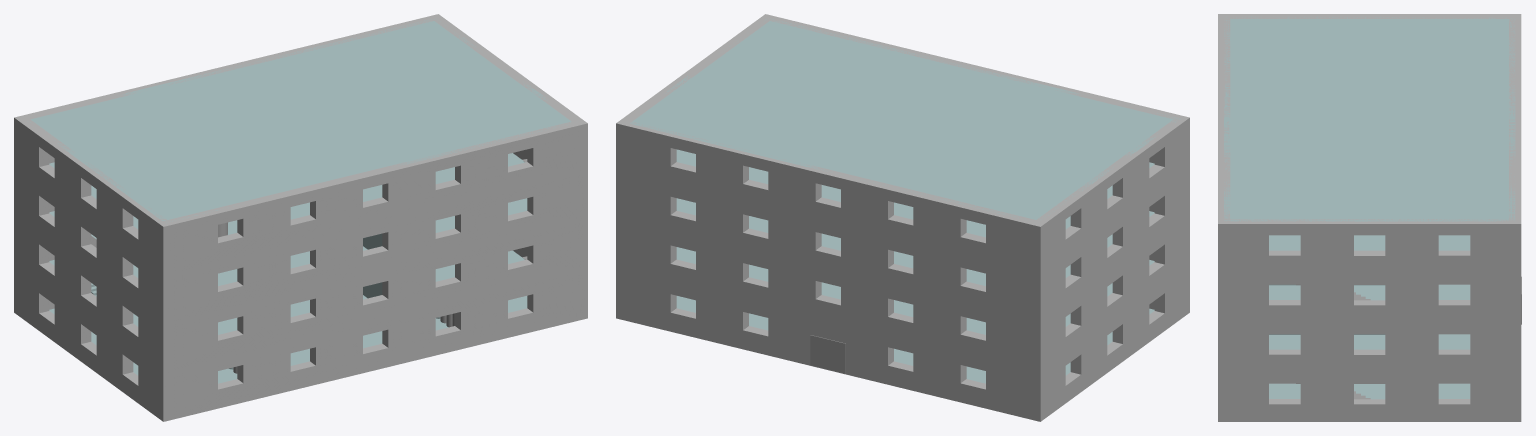
3 views of the same model, side by side, from view 1: azimuth 30°, elevation 25°; view 2: azimuth 150°, elevation 25°; view 3: azimuth 270°, elevation 25° (orthographic).
Visible parts, largest first — view 1: pPlane2, pCube27, pCube22, pCube25, pCube12, Wall27, Wall22, Wall25, Wall23, pCube26, Wall28, pPlane1 (+5 smaller); view 2: pPlane2, pCube26, pCube23, pCube24, pCube18, Wall27, Wall25, Wall23, Wall22, pCube27, Wall28, Floor2 (+5 smaller); view 3: pPlane2, Wall28, Wall21, Wall24, Wall26, pCube26, pCube27, Floor9, Wall27, Floor2, pPlane1, Floor8 (+6 smaller).
Part boxes in pixels (<box>): pPlane2: <box>27,18,571,223</box>; pCube27: <box>157,119,587,274</box>; pCube22: <box>157,221,587,372</box>; pCube25: <box>157,172,587,323</box>; pCube12: <box>157,270,587,421</box>; Wall27: <box>14,115,173,275</box>; Wall22: <box>14,264,173,421</box>; Wall25: <box>14,166,173,324</box>; Wall23: <box>14,215,173,372</box>; pCube26: <box>14,14,443,166</box>; Wall28: <box>429,14,587,174</box>; pPlane1: <box>49,296,527,383</box>; pPlane2: <box>630,18,1180,220</box>; pCube26: <box>616,119,1045,275</box>; pCube23: <box>616,221,1043,372</box>; pCube24: <box>616,172,1045,323</box>; pCube18: <box>616,270,1045,421</box>; Wall27: <box>1030,115,1189,275</box>; Wall25: <box>1030,166,1189,324</box>; Wall23: <box>1030,215,1189,372</box>; Wall22: <box>1030,264,1189,421</box>; pCube27: <box>760,14,1189,163</box>; Wall28: <box>616,14,775,173</box>; Floor2: <box>676,247,1154,334</box>; pPlane2: <box>1224,16,1515,221</box>; Wall28: <box>1218,219,1521,273</box>; Wall21: <box>1218,372,1521,421</box>; Wall24: <box>1218,323,1521,372</box>; Wall26: <box>1218,273,1521,322</box>; pCube26: <box>1509,14,1521,273</box>; pCube27: <box>1218,14,1230,273</box>; Floor9: <box>1269,235,1470,250</box>; Wall27: <box>1218,14,1521,18</box>; Floor2: <box>1269,334,1470,349</box>; pPlane1: <box>1269,383,1470,399</box>; Floor8: <box>1269,284,1470,300</box>.
Size of the model in its own units: 41 by 18.01 by 25.05.
